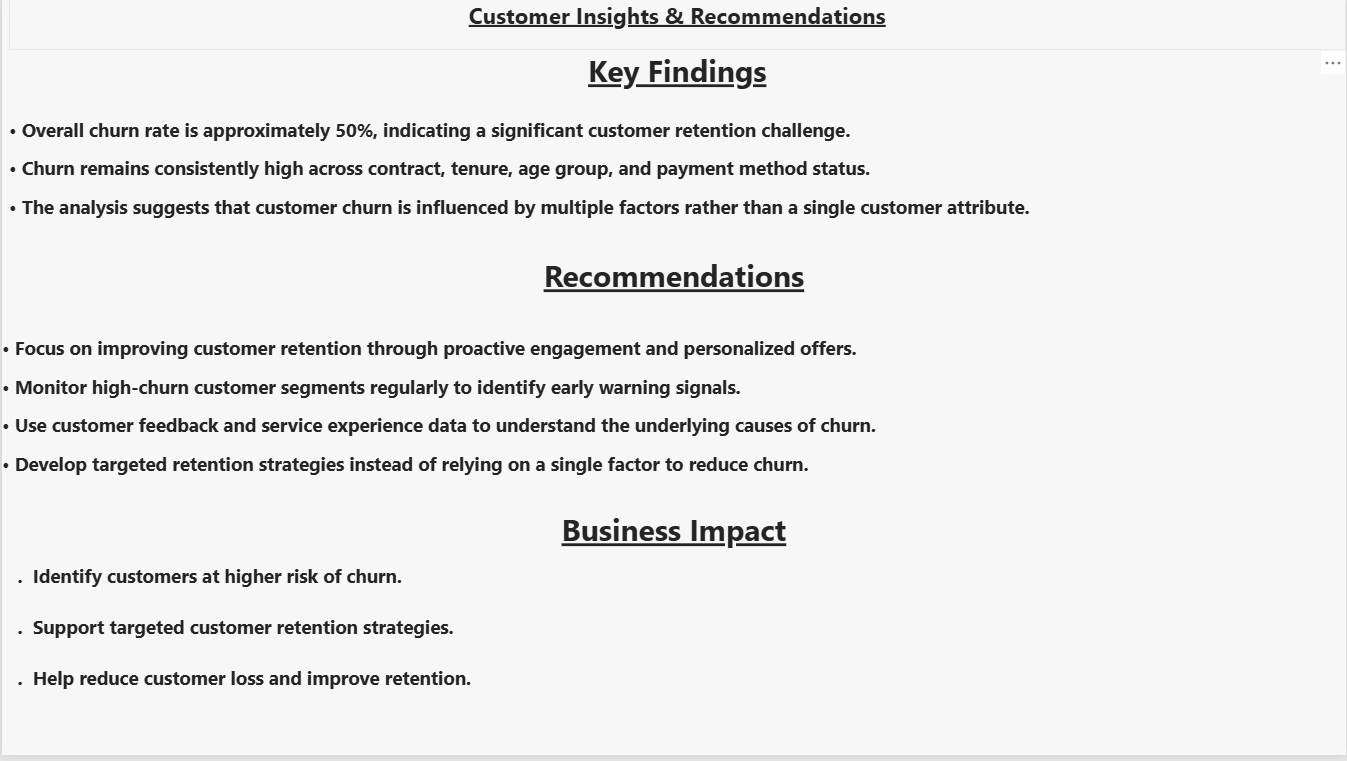

Layout of this report page (visuals, bound fields, positions):
{"tool":"powerbi","page":{"name":"Page 3","canvas":[1920,1080],"ordinal":2},"visuals":[{"type":"textbox","box":[10.6,0,1909.1,72.3],"z":0},{"type":"textbox","box":[10.6,72.3,1909.1,327.4],"z":1},{"type":"textbox","box":[0,365.7,1919.8,420.9],"z":2},{"type":"textbox","box":[0,729.2,1919.8,333.8],"z":3}]}

Visuals, with their boxes in screenshot pixels (x1, y1, x2, y2), scaled from the page's 1920x1080 canvas onto the 1347x761 screenshot:
textbox: {"x1": 7, "y1": 0, "x2": 1346, "y2": 51}
textbox: {"x1": 7, "y1": 51, "x2": 1346, "y2": 282}
textbox: {"x1": 0, "y1": 258, "x2": 1346, "y2": 554}
textbox: {"x1": 0, "y1": 514, "x2": 1346, "y2": 749}
